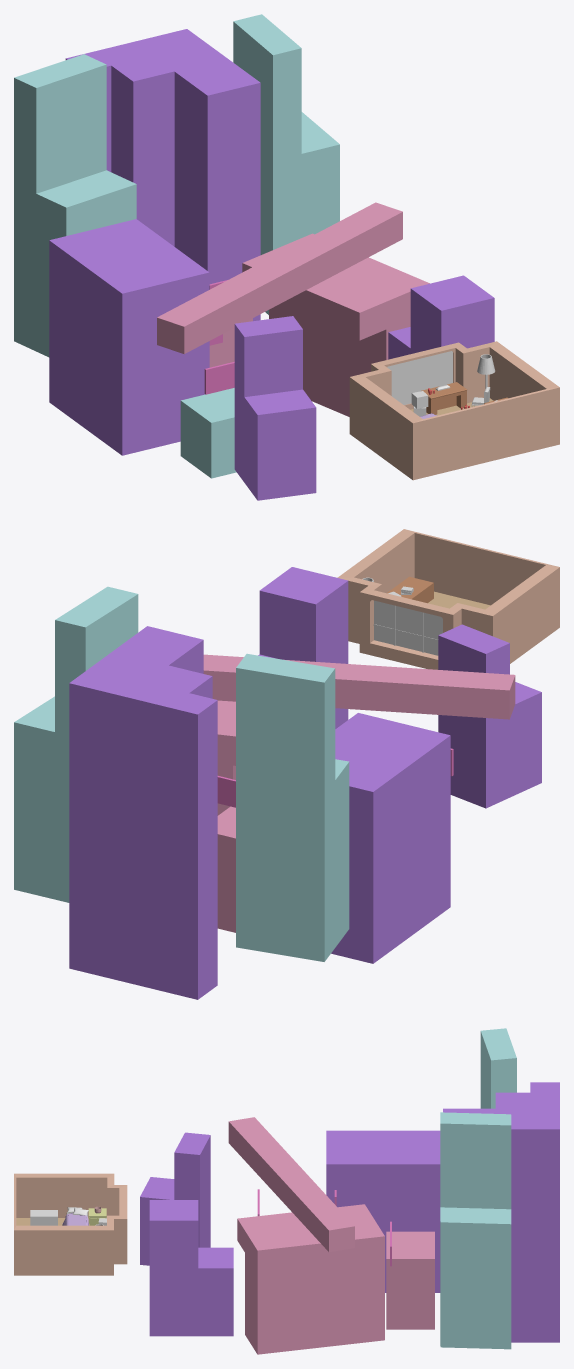
Rendered from House.fbx.
3 renders of one model, top to bottom at view 1: azimuth 30°, elevation 25°; view 2: azimuth 150°, elevation 25°; view 3: azimuth 270°, elevation 25°, orthographic. The views are drawn at different scales.
Visible parts, largest first — view 1: Building.04, Building.02, Building.006, Walls, Building.007, Building.005, Building.03, Tube.01, Building.01, Cube.010, Window, Desk (+2 smaller); view 2: Building.04, Building.006, Building.02, Walls, Building.007, Building.005, Tube.01, Building.01, Window, Cube, Building.03, ClutterTable; view 3: Building.03, Building.007, Building.04, Building.02, Walls, Building.01, Tube.01, Cube, Building.005, Building.006, Chest.
Boxes of the visible parts, <box> form: Building.04: <box>65,29,260,321</box>; Building.02: <box>49,219,209,455</box>; Building.006: <box>14,54,136,357</box>; Walls: <box>349,341,559,480</box>; Building.007: <box>233,14,339,314</box>; Building.005: <box>234,316,316,500</box>; Building.03: <box>242,233,429,416</box>; Tube.01: <box>157,202,402,354</box>; Building.01: <box>388,275,494,359</box>; Cube.010: <box>180,388,236,478</box>; Window: <box>387,351,452,404</box>; Desk: <box>421,382,467,414</box>; Building.04: <box>69,626,217,999</box>; Building.006: <box>236,653,349,961</box>; Building.02: <box>331,713,450,963</box>; Walls: <box>337,529,559,669</box>; Building.007: <box>14,586,138,902</box>; Building.005: <box>438,624,541,808</box>; Tube.01: <box>203,654,515,719</box>; Building.01: <box>258,567,348,728</box>; Window: <box>374,600,442,655</box>; Cube: <box>217,806,235,932</box>; Building.03: <box>217,700,235,815</box>; ClutterTable: <box>387,576,433,603</box>; Building.03: <box>237,1204,384,1354</box>; Building.007: <box>440,1112,511,1349</box>; Building.04: <box>443,1082,559,1342</box>; Building.02: <box>326,1130,440,1292</box>; Walls: <box>14,1173,127,1275</box>; Building.01: <box>149,1200,233,1336</box>; Tube.01: <box>228,1117,354,1252</box>; Cube: <box>386,1231,434,1329</box>; Building.005: <box>140,1132,210,1265</box>; Building.006: <box>480,1028,516,1108</box>; Chest: <box>30,1210,57,1225</box>.
Size of the model in its own units: 1149 by 1080 by 2243.
